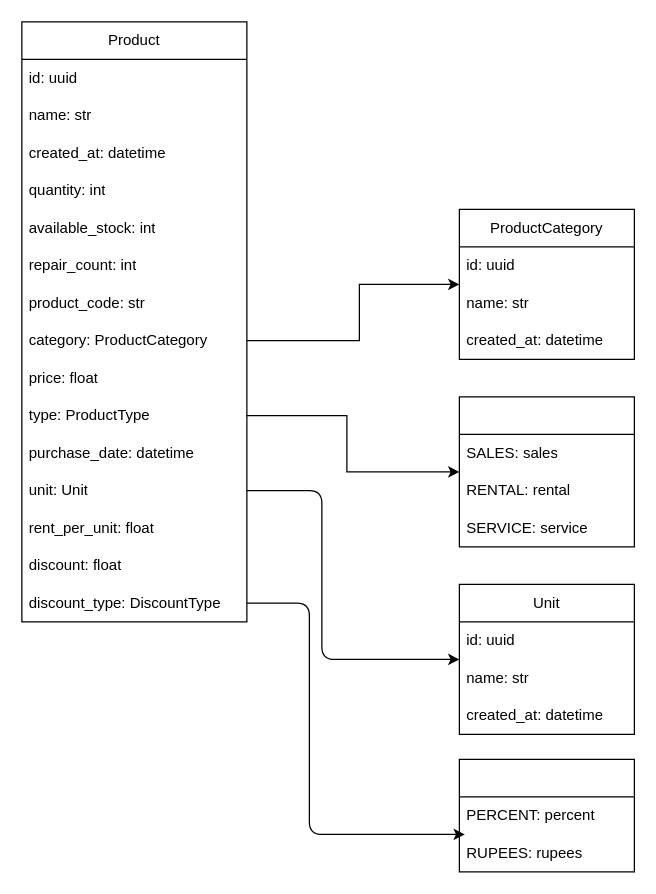
This 656x894 diagram has some shape labels left out. Here are the shapes that lost their labels. From the top down, the box of each, then its label:
(458, 396, 634, 547): ProductType
(458, 758, 634, 872): DiscountType
